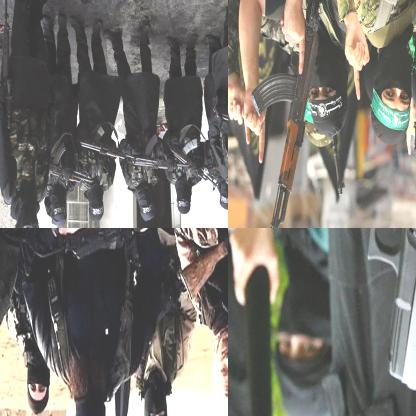pistol: (290, 228, 415, 390)
rifle: (248, 0, 330, 227), (17, 228, 205, 282), (168, 126, 220, 194), (0, 0, 22, 132), (45, 145, 95, 189), (74, 120, 128, 160), (325, 130, 351, 199), (116, 148, 180, 172)
